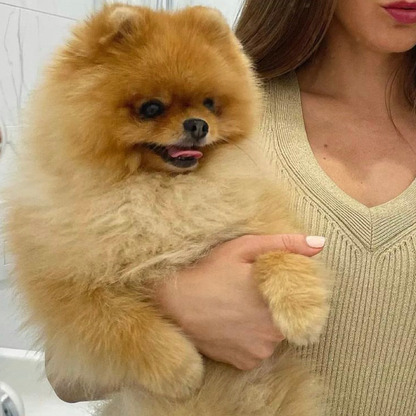Pomeranian: (43, 14, 254, 388)
